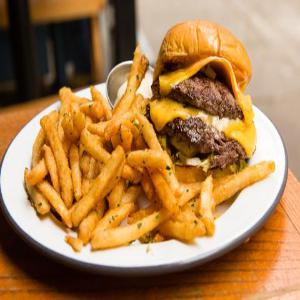cheeseburger: (155, 13, 260, 200)
fries: (31, 74, 159, 261)
